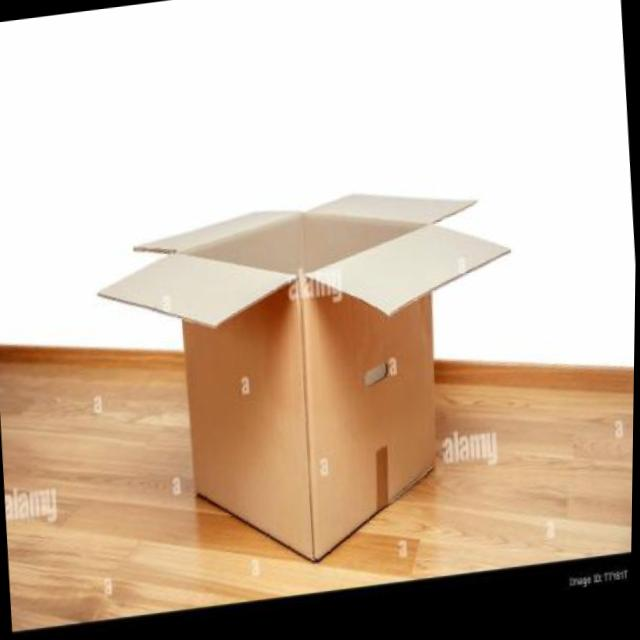box: (83, 161, 541, 593)
